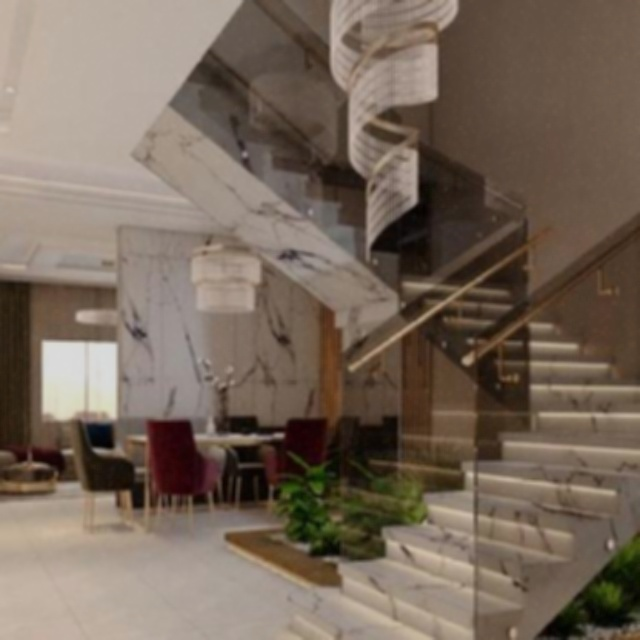stair: (278, 221, 640, 638)
